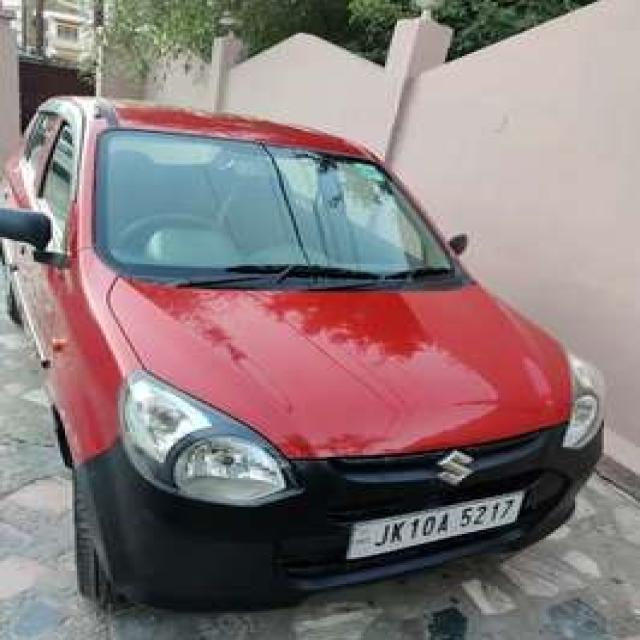licenseplate: (346, 490, 531, 563)
